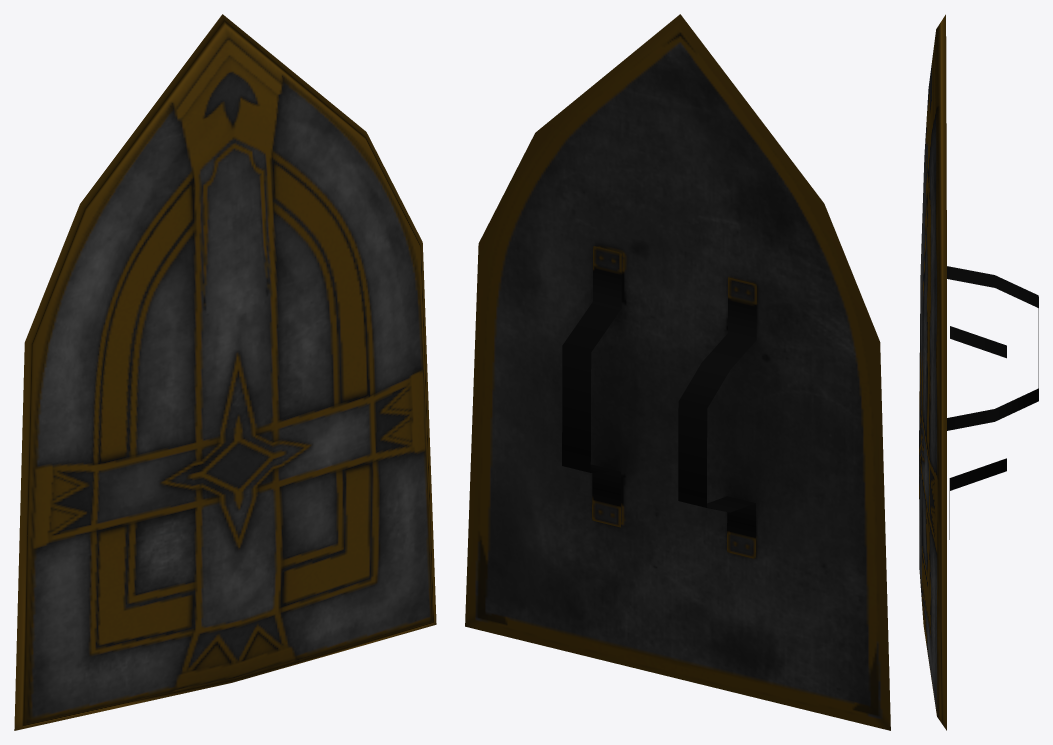
The model's file is Sheild01.fbx.
3 renders of one model, left to right at view 1: azimuth 30°, elevation 25°; view 2: azimuth 150°, elevation 25°; view 3: azimuth 270°, elevation 25°, orthographic. The views are drawn at different scales.
Parts seen in each view (by area): view 1: Paladin_J_Nordstrom_Helmet; view 2: Paladin_J_Nordstrom_Helmet; view 3: Paladin_J_Nordstrom_Helmet.
Boxes of the visible parts, x1,y1,x2,y2 form: Paladin_J_Nordstrom_Helmet: (14,14,436,730); Paladin_J_Nordstrom_Helmet: (465,14,890,730); Paladin_J_Nordstrom_Helmet: (919,14,1038,730).
Size of the model in its own units: 17.48 by 26.23 by 4.59.
Materials: 1 (1 with a texture image).
